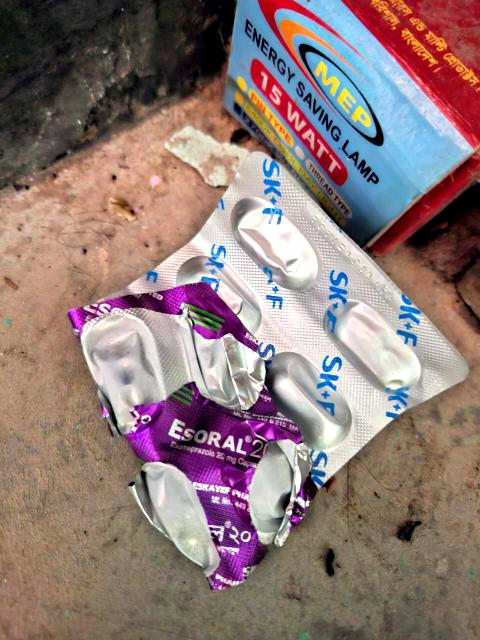medicine: (18, 118, 476, 568)
